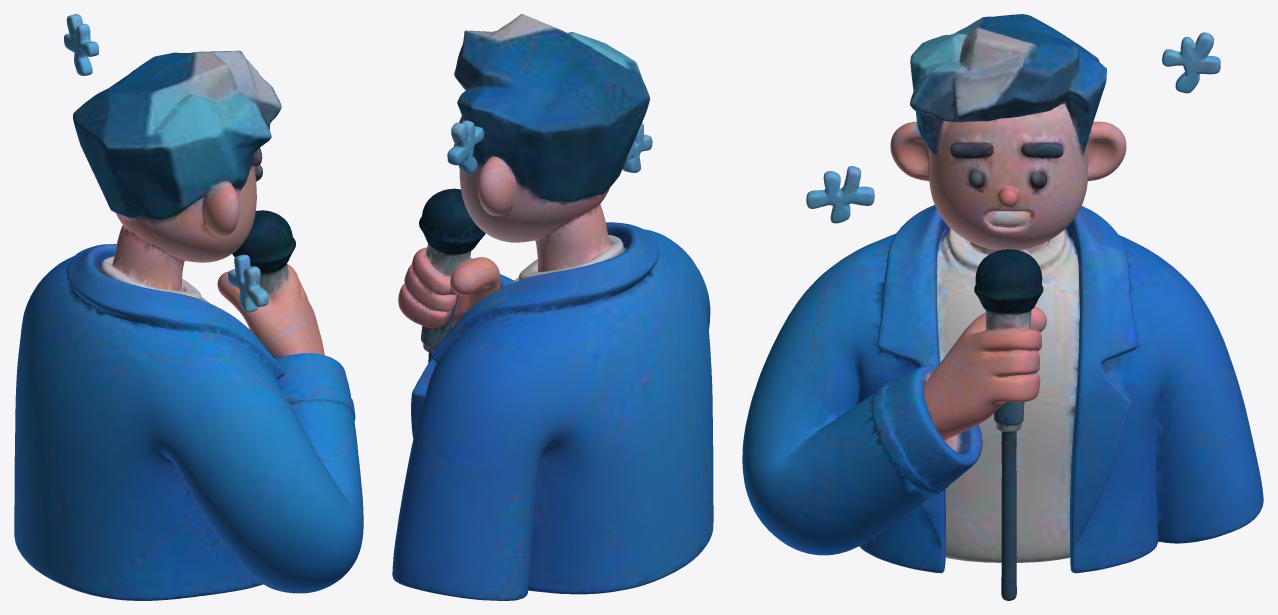
File: blue_guru.glb
3 views of the same model, side by side, from view 1: azimuth 30°, elevation 25°; view 2: azimuth 150°, elevation 25°; view 3: azimuth 270°, elevation 25° (orthographic). The views are drawn at different scales.
Parts seen in each view (by area): view 1: tripo_node_ccd94548-4f2b-4bc0-a3db-a359be6f02d3; view 2: tripo_node_ccd94548-4f2b-4bc0-a3db-a359be6f02d3; view 3: tripo_node_ccd94548-4f2b-4bc0-a3db-a359be6f02d3.
Boxes of the visible parts, x1=… form: tripo_node_ccd94548-4f2b-4bc0-a3db-a359be6f02d3: x1=14, y1=14, x2=363, y2=600; tripo_node_ccd94548-4f2b-4bc0-a3db-a359be6f02d3: x1=392, y1=14, x2=713, y2=600; tripo_node_ccd94548-4f2b-4bc0-a3db-a359be6f02d3: x1=742, y1=14, x2=1263, y2=600.
Bounding box in the file's own units: 0.5984 × 0.9999 × 0.9083.
Materials: 1 (1 with a texture image).
